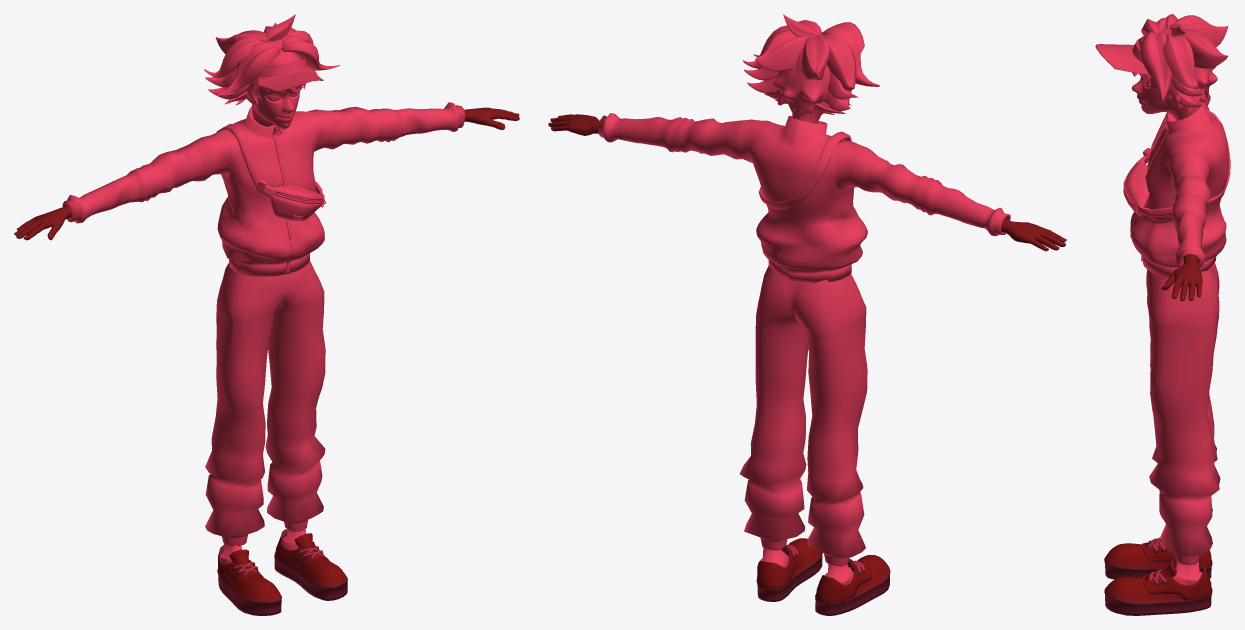
The model's file is Pizzera_Mesh.fbx.
3 views of the same model, side by side, from view 1: azimuth 30°, elevation 25°; view 2: azimuth 150°, elevation 25°; view 3: azimuth 270°, elevation 25° (orthographic). The views are drawn at different scales.
Parts seen in each view (by area): view 1: Pantalones_low, Chaqueta_low, Zapatos, NurbsPath.014, Nudo, Manos, Face_low, Visera; view 2: Pantalones_low, Chaqueta_low, NurbsPath.014, Zapatos, Manos, Nudo; view 3: Pantalones_low, Chaqueta_low, Zapatos, NurbsPath.014, Nudo, Face_low, Manos, Visera.
Part boxes in pixels (x1,y1,x2,y2): Pantalones_low: (205,261,325,546); Chaqueta_low: (62,102,464,276); Zapatos: (217,528,347,615); NurbsPath.014: (204,14,340,105); Nudo: (216,124,325,221); Manos: (14,107,519,240); Face_low: (245,85,300,129); Visera: (257,58,323,91); Pantalones_low: (739,266,867,566); Chaqueta_low: (598,113,1010,282); NurbsPath.014: (743,14,879,119); Zapatos: (756,538,890,615); Manos: (548,114,1066,251); Nudo: (759,131,851,209); Pantalones_low: (1146,262,1220,564); Chaqueta_low: (1130,95,1228,278); Zapatos: (1104,537,1212,615); NurbsPath.014: (1132,14,1228,112); Nudo: (1123,108,1230,217); Face_low: (1131,74,1198,120); Manos: (1161,254,1202,301); Visera: (1095,38,1148,74).
Bounding box in the file's own units: 1655 × 1767 × 376.
